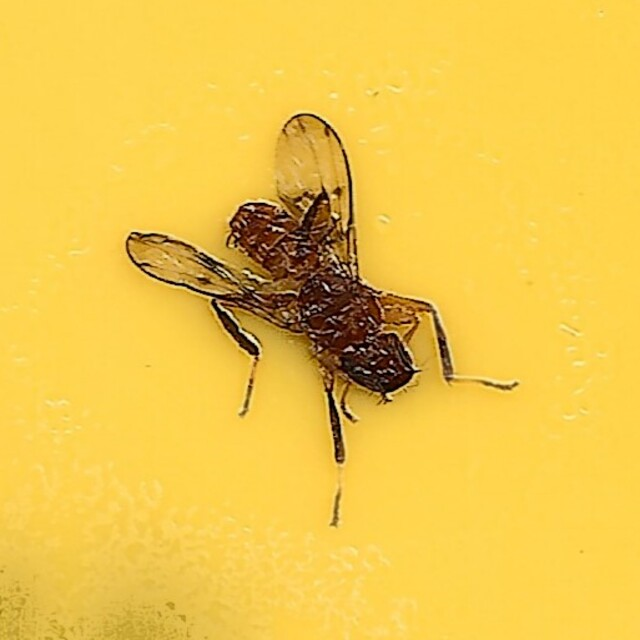Hymenoptera: (125, 113, 515, 527)
